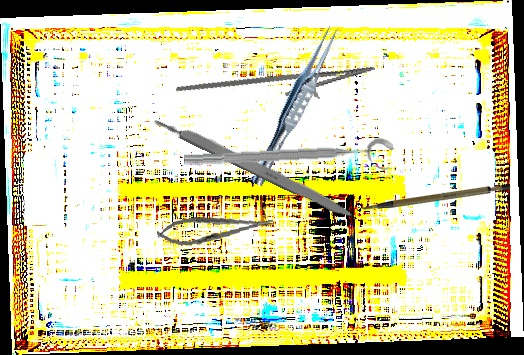Fixation Ring: (183, 137, 395, 183)
Needle Holder: (175, 42, 379, 130), (155, 208, 276, 250)
Scalpel Handle: (152, 111, 361, 224), (361, 182, 510, 210)
Tissue Forceps: (247, 21, 344, 191)
